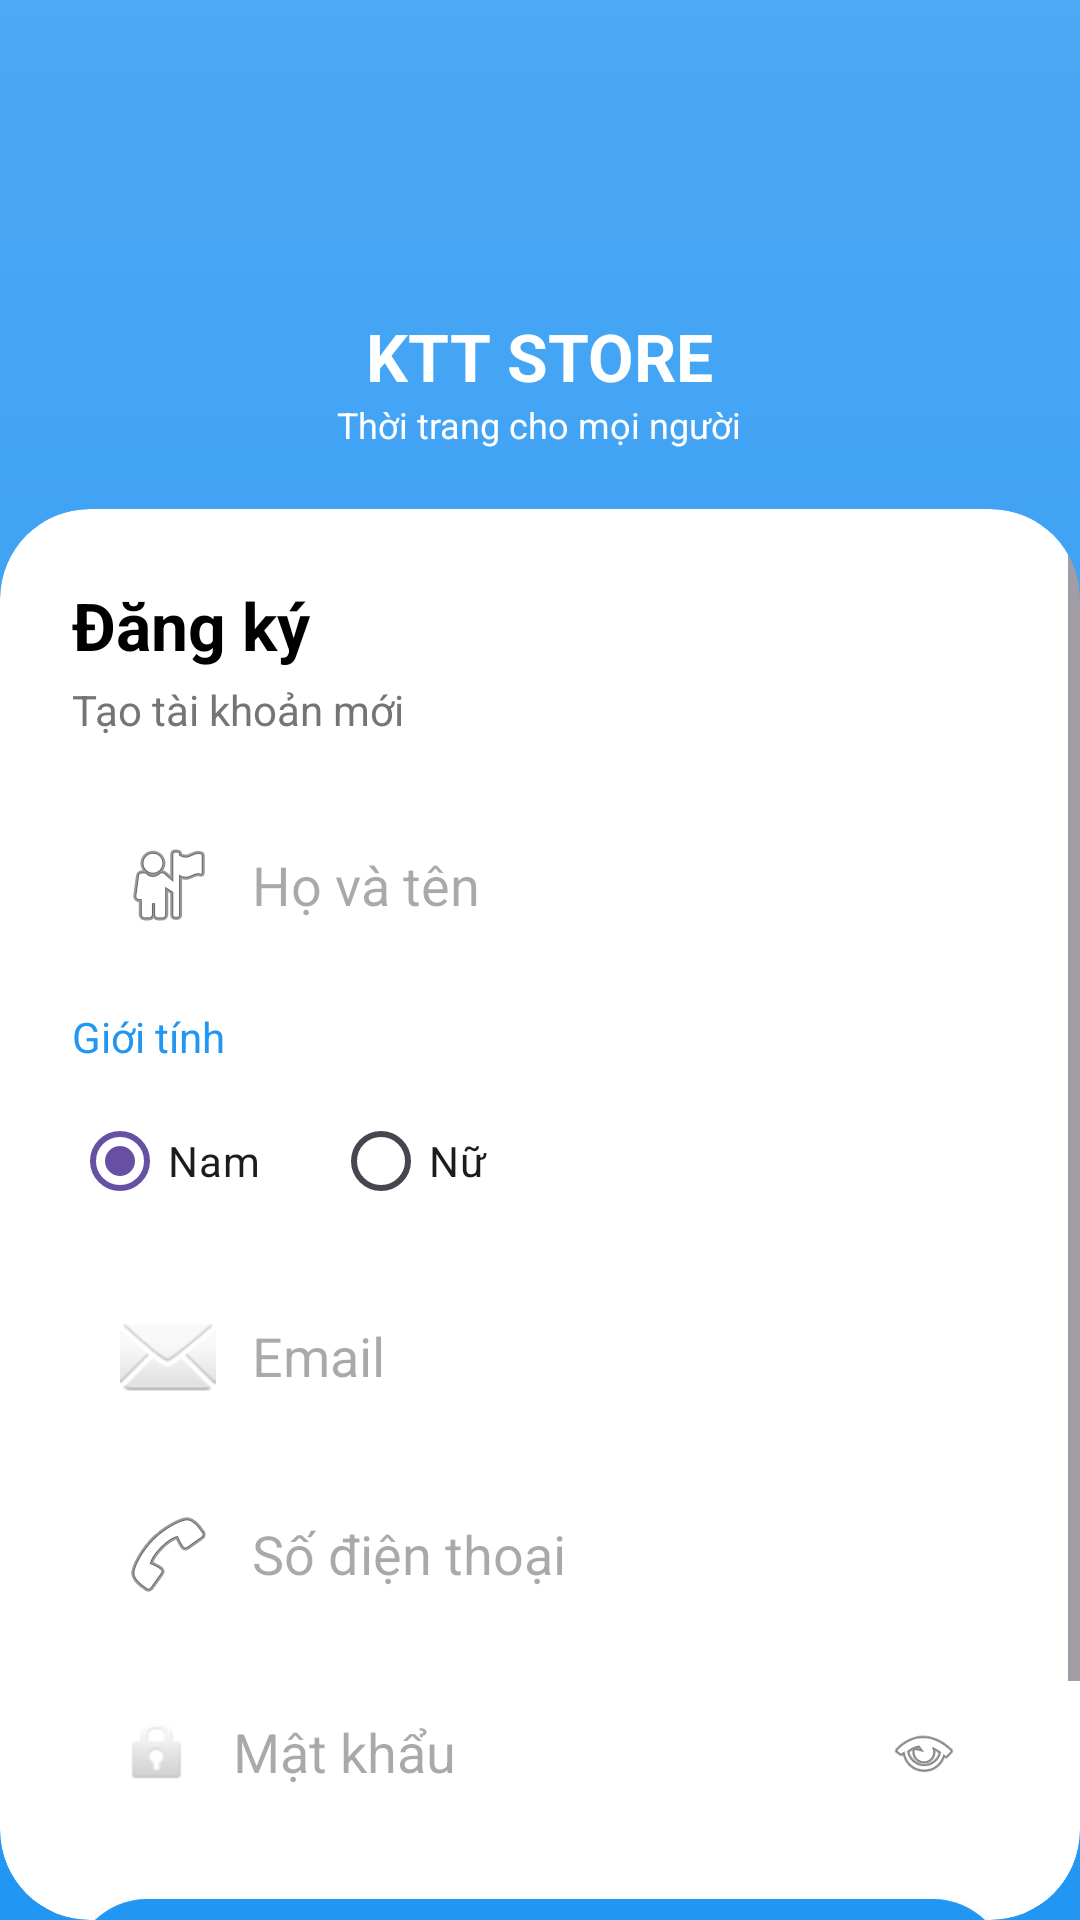

Where to tap for icons on this 1080w x 1920h app screen, as [x,y]:
view: [924,1753]
